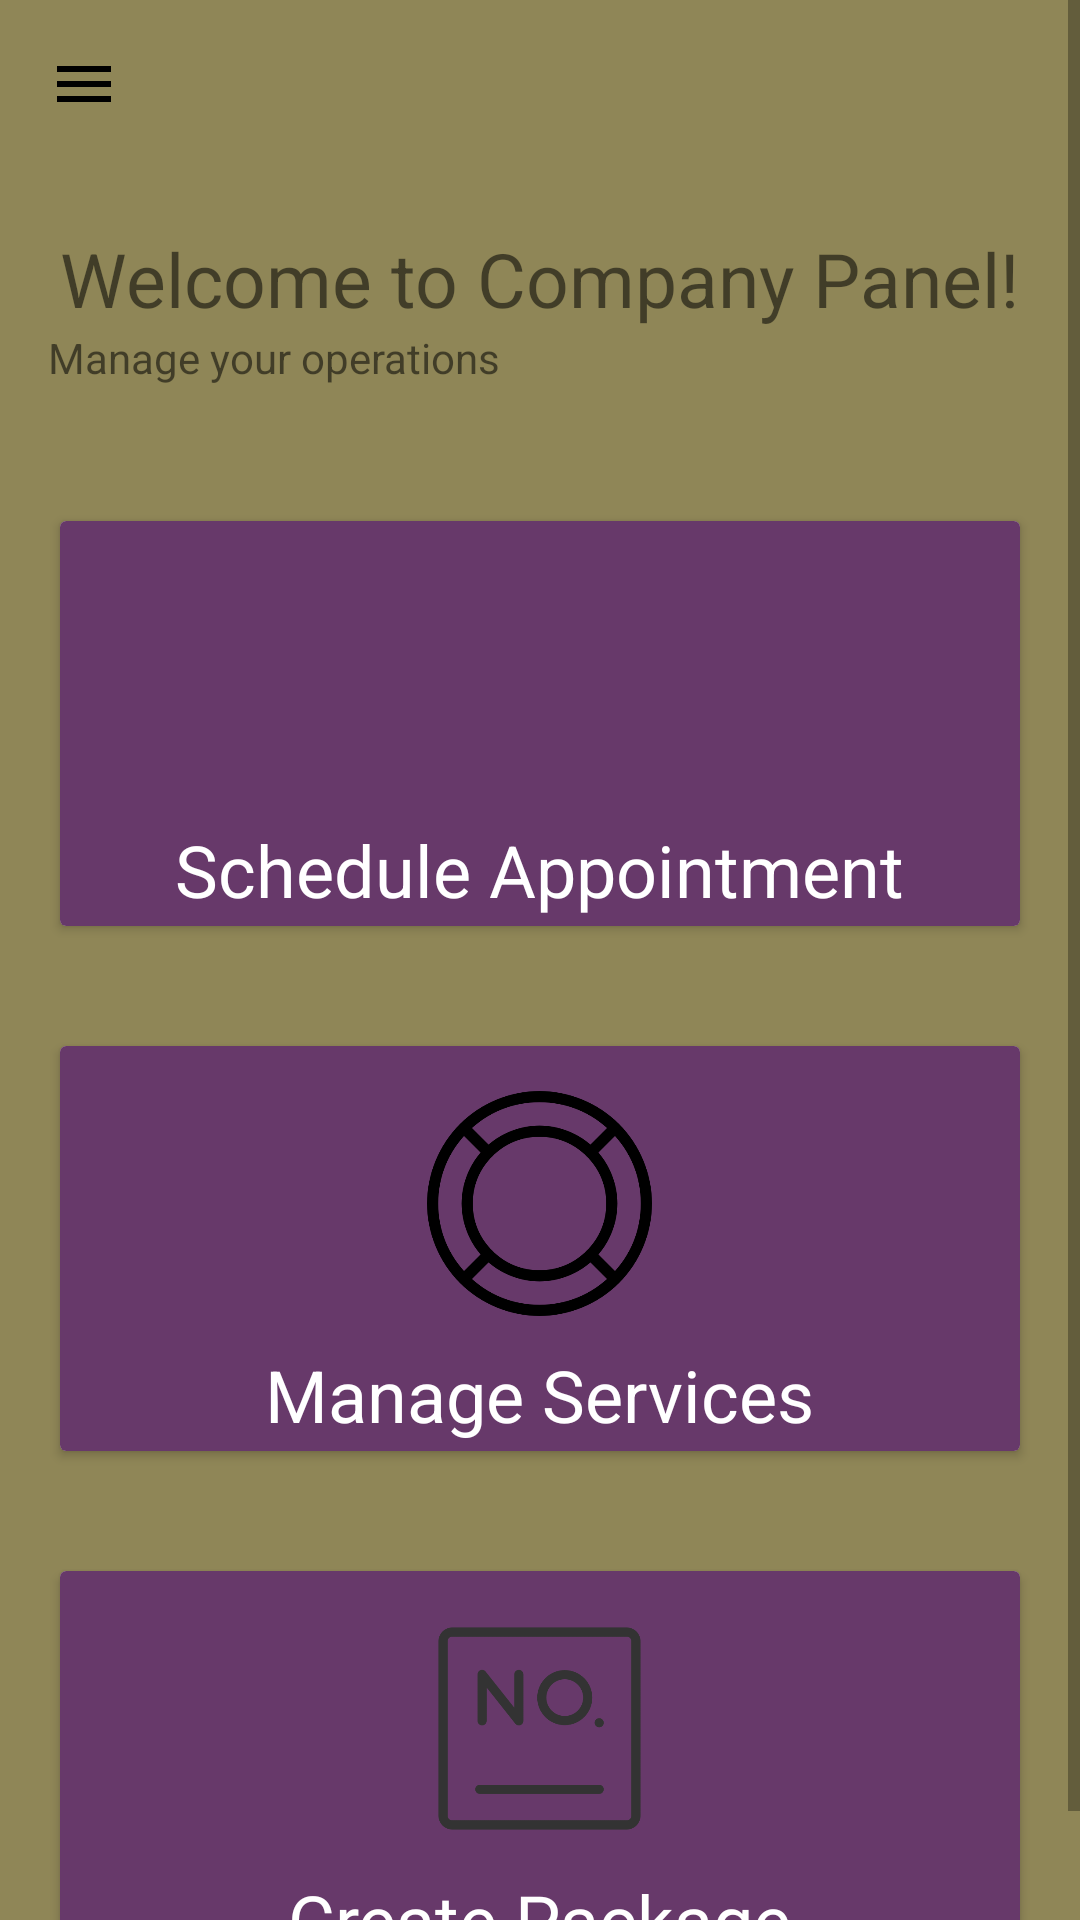

Icon bounding boxes for this 1080 × 1920 phone screenshot, format Rect(x1, y1, x2, y2):
noofguards: Rect(438, 1627, 641, 1830)
